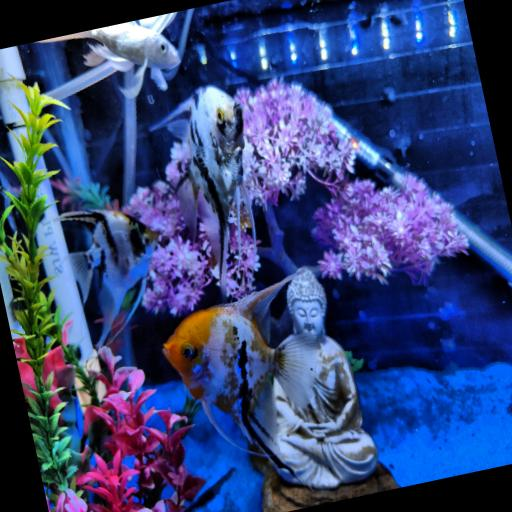Fish: (163, 276, 317, 473), (150, 86, 255, 301), (57, 210, 157, 348), (36, 21, 179, 98)
